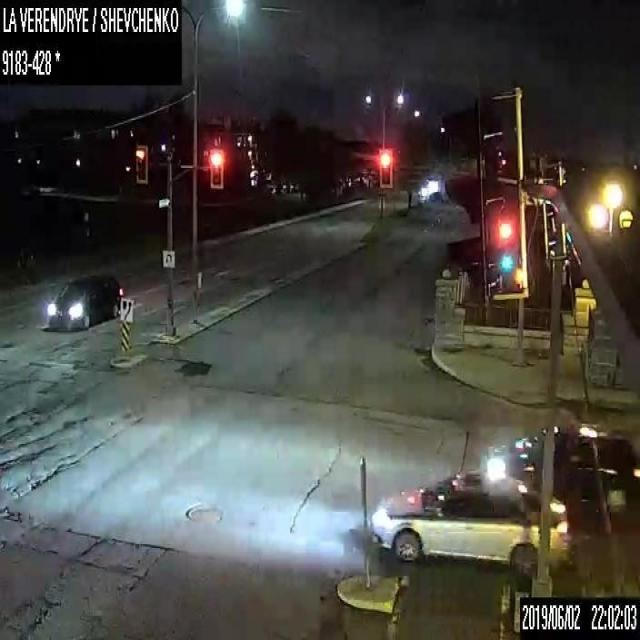vehicle: (368, 470, 570, 578), (488, 426, 639, 524), (47, 270, 123, 330)
